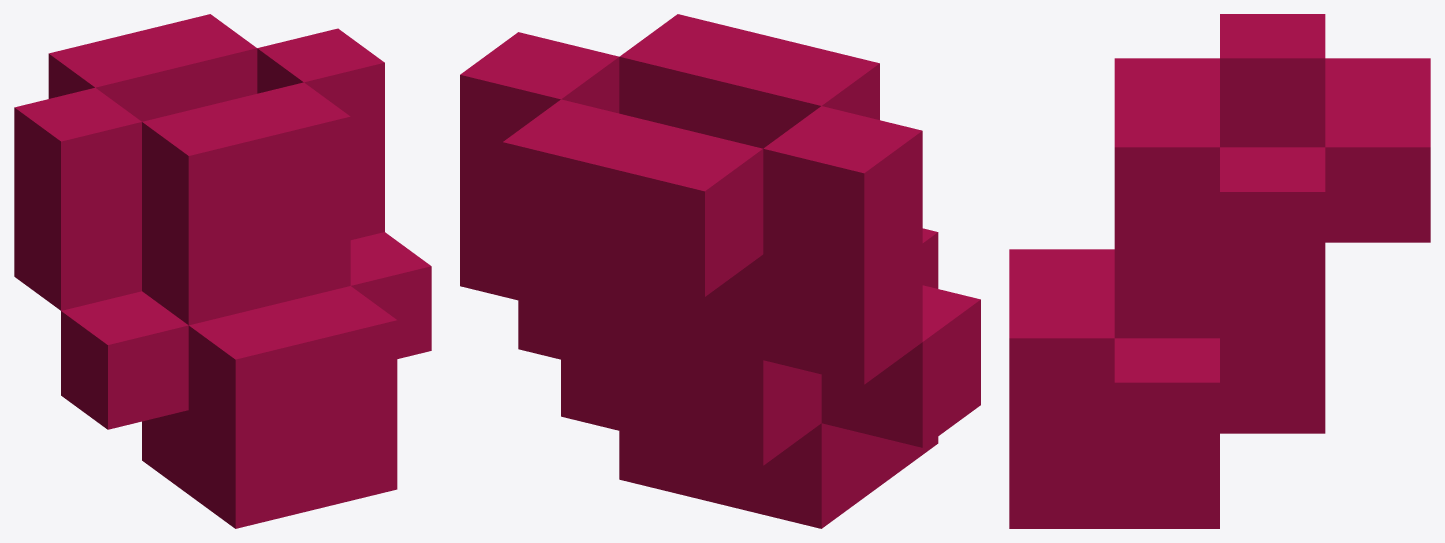
Rendered from luzvermelha-p.obj.
3 views of the same model, side by side, from view 1: azimuth 30°, elevation 25°; view 2: azimuth 150°, elevation 25°; view 3: azimuth 270°, elevation 25° (orthographic). The views are drawn at different scales.
Size of the model in its own units: 0.4 by 0.4 by 0.4.
1 material, 1 textured.
